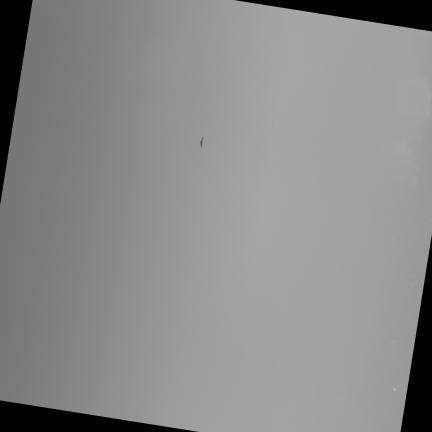Shahed: (198, 137, 203, 148)
